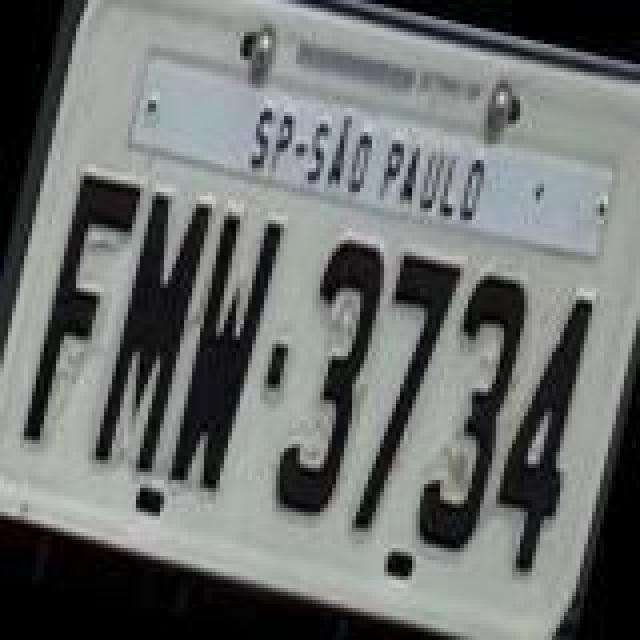3: (266, 234, 390, 526), (410, 270, 534, 562)
4: (482, 286, 606, 578)
7: (338, 248, 462, 544)
F: (18, 168, 142, 456)
M: (90, 192, 214, 480)
W: (162, 208, 286, 496)
